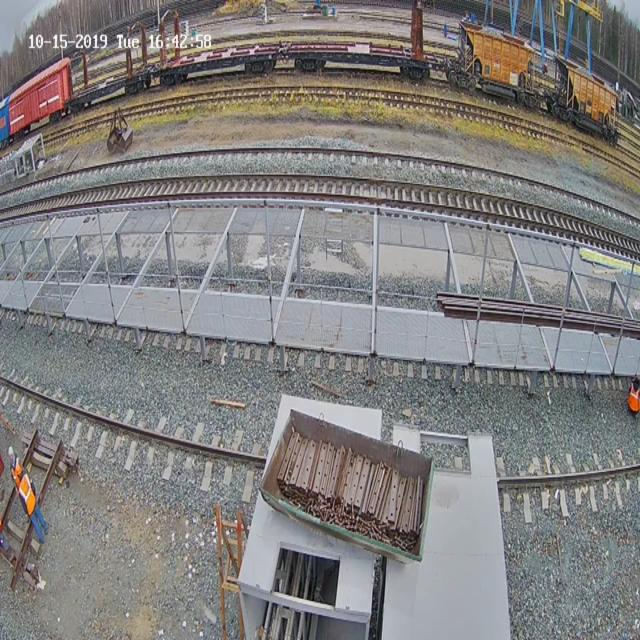Person: (7, 446, 49, 544), (624, 366, 640, 421)
